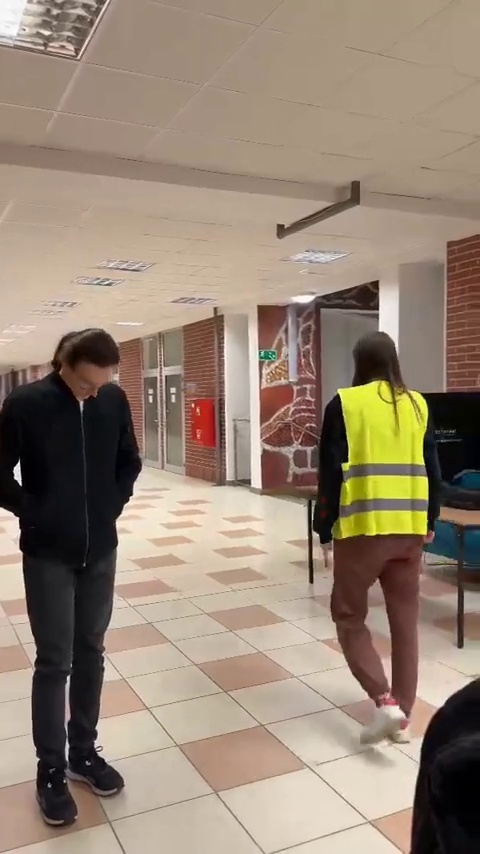no vest: (0, 328, 148, 816)
vest: (310, 329, 456, 745)
